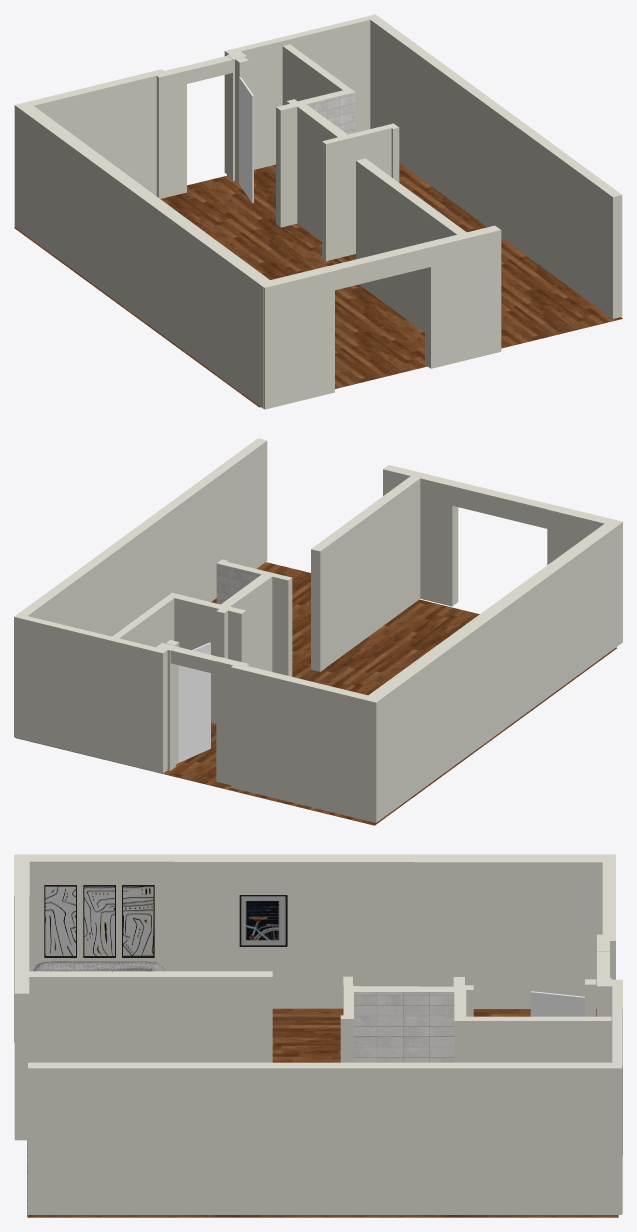
Rendered from WALLS GLB VECTARY_v2.glb.
3 renders of one model, top to bottom at view 1: azimuth 30°, elevation 25°; view 2: azimuth 150°, elevation 25°; view 3: azimuth 270°, elevation 25°, orthographic. The views are drawn at different scales.
Visible parts, largest first — view 1: Line016, Line017, Box001, Line009, Box147, Box146, Box144, Box150, Box154, THE CHARLES TEST1, Box152, Box201; view 2: Line016, Line017, Box144, Box001, Line009, Box147, Box154, Box150, Box146, THE CHARLES TEST1, Box152; view 3: Line017, Line016, Box144, Line009, THE CHARLES TEST1, Box001, Box147, Box040, Box042, Box044, Buffer Object, Box154 (+2 smaller).
Part boxes in pixels (box(x1,y1,x2,y2)): Line016: box(14, 67, 276, 408); Line017: box(224, 14, 622, 318); Box001: box(14, 163, 622, 407); Line009: box(276, 44, 399, 261); Box147: box(425, 225, 501, 368); Box146: box(263, 266, 334, 409); Box144: box(356, 158, 467, 332); Box150: box(328, 242, 430, 290); Box154: box(239, 77, 253, 202); THE CHARLES TEST1: box(306, 92, 355, 134); Box152: box(182, 55, 233, 83); Box201: box(235, 57, 248, 183); Line016: box(216, 519, 622, 822); Line017: box(14, 438, 267, 773); Box144: box(311, 475, 420, 671); Box001: box(15, 562, 616, 825); Line009: box(112, 559, 292, 723); Box147: box(383, 465, 458, 606); Box154: box(178, 642, 210, 762); Box150: box(452, 481, 553, 528); Box146: box(547, 505, 622, 642); THE CHARLES TEST1: box(216, 563, 261, 604); Box152: box(170, 646, 220, 674); Line017: box(28, 978, 622, 1214); Line016: box(16, 854, 615, 1008); Box144: box(26, 971, 272, 1062); Line009: box(340, 976, 611, 1062); THE CHARLES TEST1: box(241, 896, 454, 1062); Box001: box(27, 1008, 618, 1217); Box147: box(14, 952, 29, 1140); Box040: box(84, 886, 114, 955); Box042: box(45, 886, 75, 955); Box044: box(123, 886, 153, 955); Buffer Object: box(33, 961, 164, 971); Box154: box(530, 991, 584, 1016).
Bounding box in the file's own units: 1.02 × 0.3323 × 1.23.
Materials: 25 (19 with a texture image).
